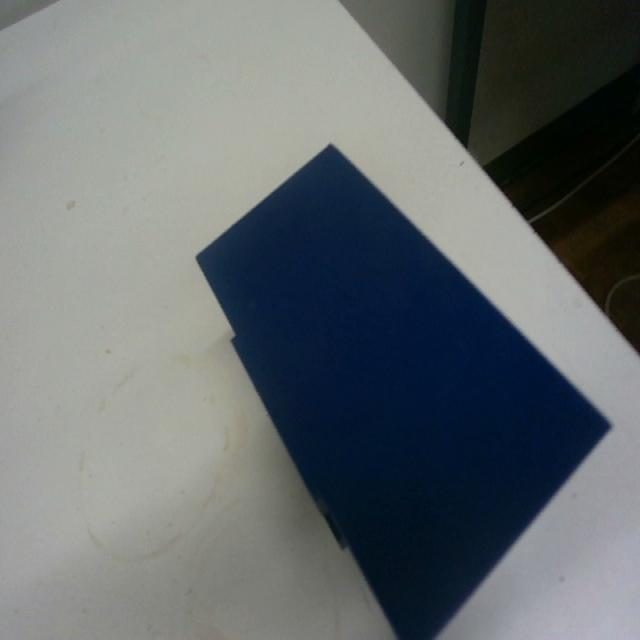Blue Cuboid: (193, 138, 613, 638)
